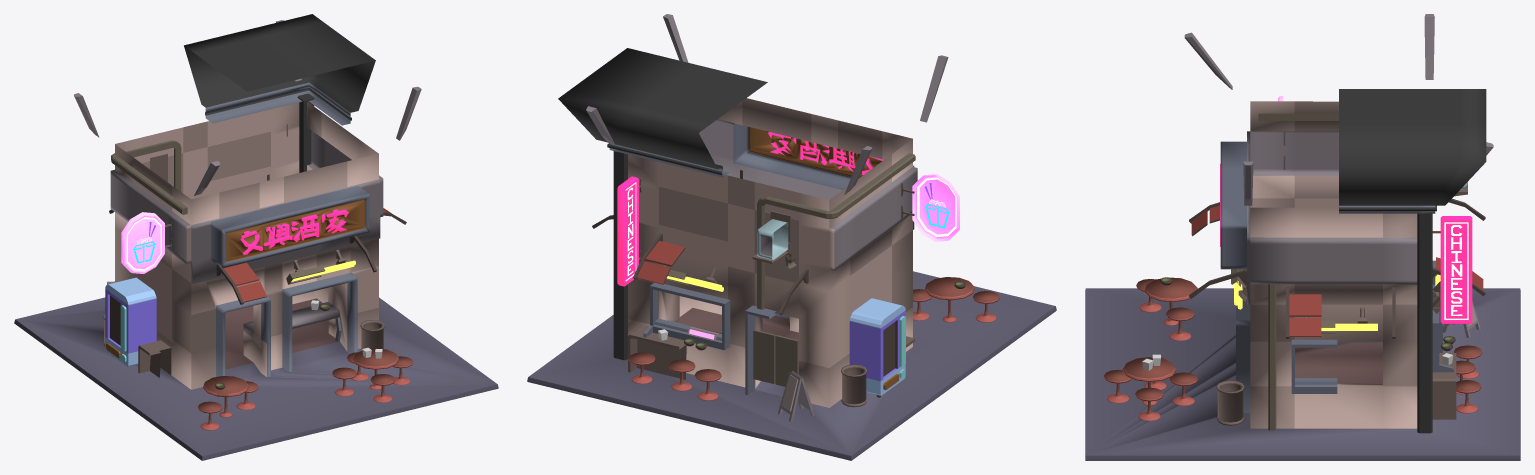
The model's file is ChineseResturant.glb.
3 views of the same model, side by side, from view 1: azimuth 30°, elevation 25°; view 2: azimuth 150°, elevation 25°; view 3: azimuth 270°, elevation 25° (orthographic). The views are drawn at different scales.
Parts seen in each view (by area): view 1: Building, Roof, VendingMachine, Sign2, Gutter pipe, Cover.002, Table.001, RoundTable.001, Pillars, RoundTable, TrashCan; view 2: Building, Roof, VendingMachine, Sign2, Window, Gutter pipe, Door, Pillars, Sign.001, Table, Cover, Vent (+5 smaller); view 3: Building, Roof, Pillars, Sign, Cover.001, Table, Window.001, Gutter pipe.001, TrashCan, RoundTable.001, RoundTable, Cube.004 (+11 smaller).
Boxes of the visible parts, x1,y1,x2,y2 form: Building: [14, 101, 498, 460]; Roof: [184, 14, 375, 125]; VendingMachine: [105, 277, 156, 366]; Sign2: [121, 212, 164, 273]; Gutter pipe: [111, 140, 187, 214]; Cover.002: [216, 262, 266, 304]; Table.001: [138, 340, 171, 377]; RoundTable.001: [203, 376, 248, 417]; Pillars: [297, 93, 314, 172]; RoundTable: [353, 348, 398, 389]; TrashCan: [360, 320, 384, 350]; Building: [527, 98, 1056, 460]; Roof: [558, 48, 767, 177]; VendingMachine: [849, 298, 905, 395]; Sign2: [912, 174, 959, 241]; Window: [650, 282, 730, 350]; Gutter pipe: [757, 153, 915, 309]; Door: [753, 329, 798, 386]; Pillars: [613, 151, 627, 360]; Sign.001: [620, 177, 638, 286]; Table: [628, 325, 686, 379]; Cover: [633, 233, 685, 284]; Vent: [757, 219, 788, 259]; Building: [1085, 101, 1520, 460]; Roof: [1339, 89, 1486, 213]; Pillars: [1417, 213, 1432, 433]; Sign: [1440, 217, 1472, 323]; Cover.001: [1286, 287, 1321, 338]; Table: [1432, 353, 1456, 419]; Window.001: [1291, 339, 1380, 393]; Gutter pipe.001: [1268, 284, 1276, 430]; TrashCan: [1216, 380, 1244, 425]; RoundTable.001: [1144, 277, 1197, 325]; RoundTable: [1122, 357, 1176, 405]; Cube.004: [1424, 14, 1434, 79].
Bounding box in the file's own units: 51 × 41.35 × 55.94.
